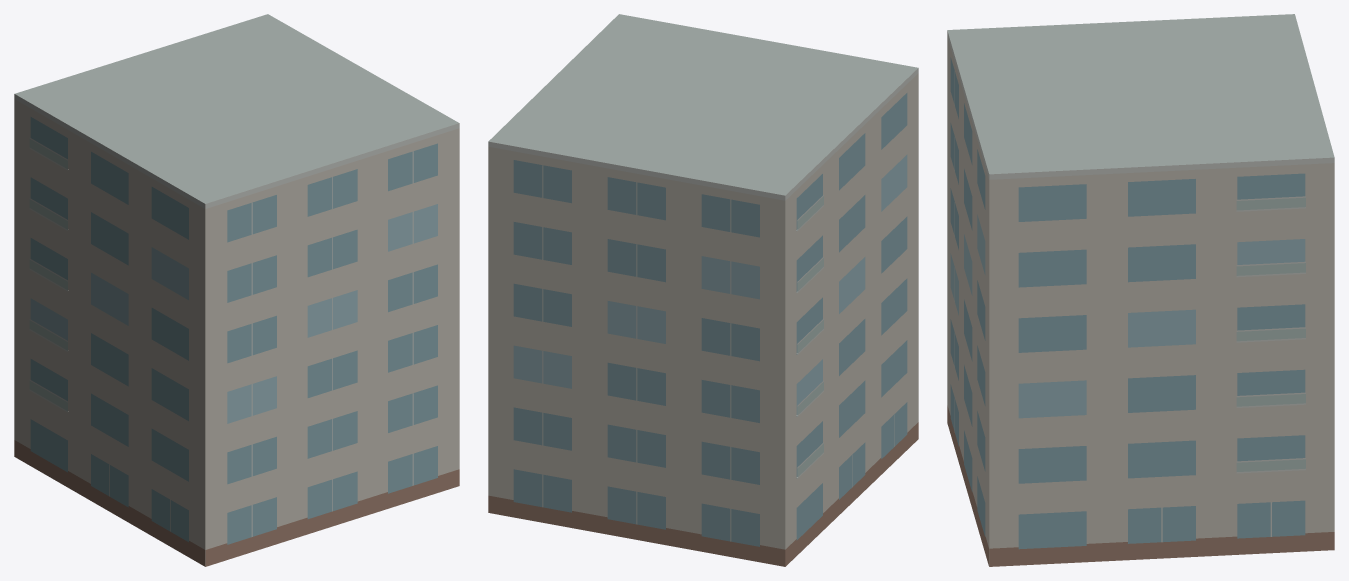
File: survey-upis-32886145.glb
The picture shows the model from 3 angles, left to right: view 1: azimuth 30°, elevation 25°; view 2: azimuth 150°, elevation 25°; view 3: azimuth 270°, elevation 25°; orthographic projection. The views are drawn at different scales.
Parts seen in each view (by area): view 1: survey-upis-32886145.tmp; view 2: survey-upis-32886145.tmp; view 3: survey-upis-32886145.tmp.
Part boxes in pixels (box(x1,y1,x2,y2)): survey-upis-32886145.tmp: box(14, 14, 459, 566); survey-upis-32886145.tmp: box(488, 14, 918, 566); survey-upis-32886145.tmp: box(947, 14, 1334, 566).
Bounding box in the file's own units: 15.34 × 17.5 × 15.66.
